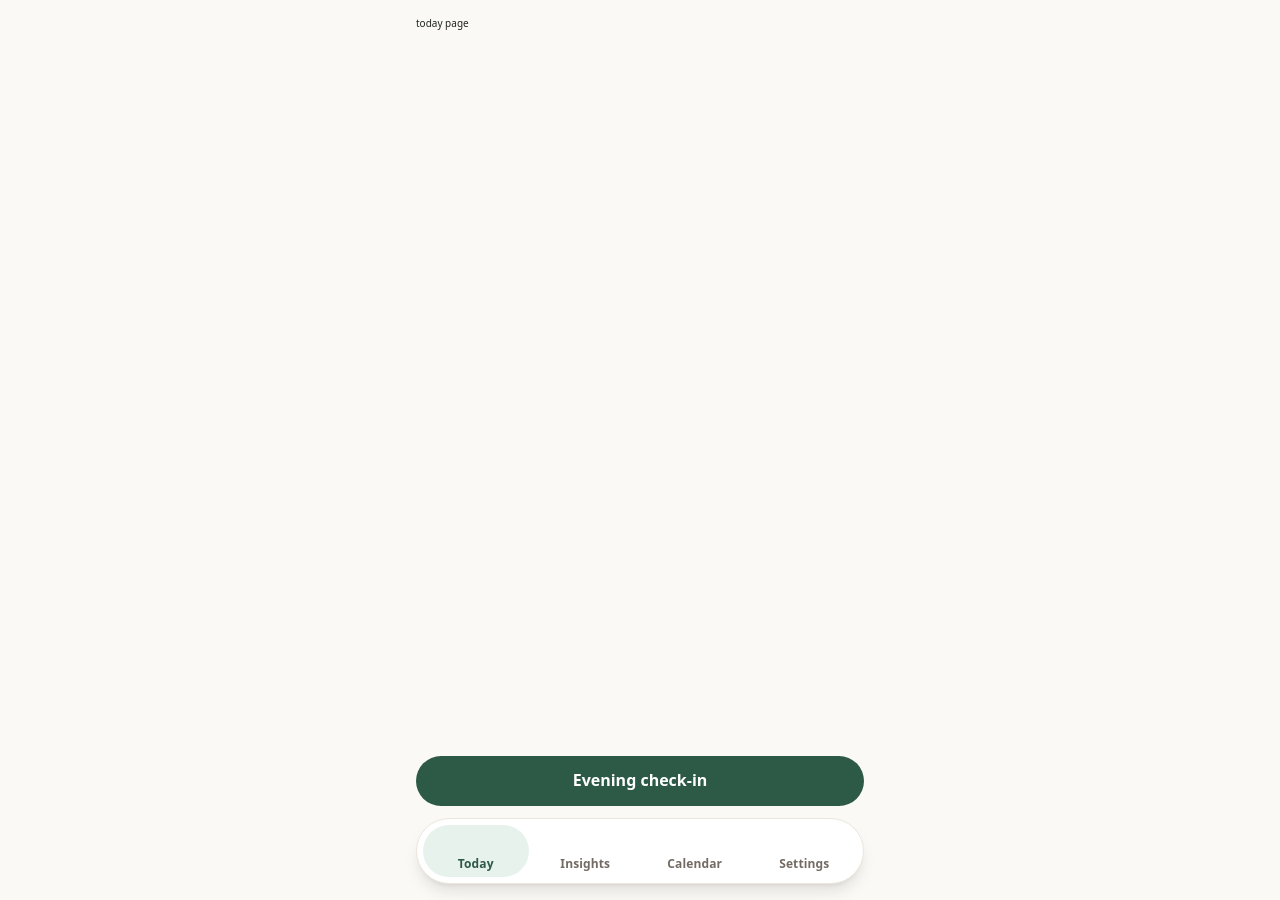
Scenario: Rapid check-in › opens the sheet from Today
What coordinates should you click on to do the following:
click the button "Evening check-in"
I would click on:
 (640, 781)
Its box is [416,756,864,806].
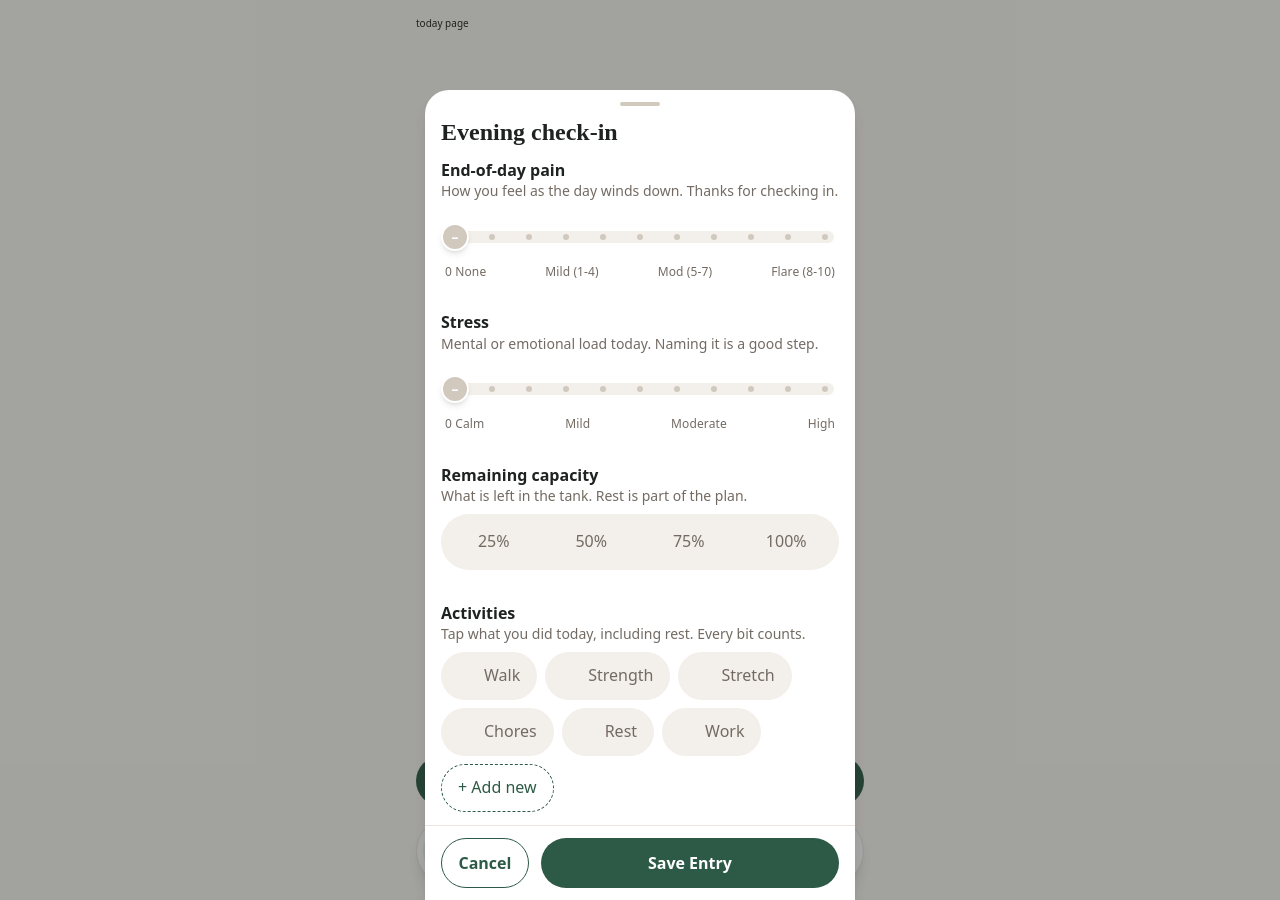
expect the dialog is shown: met, box [425,90,855,899]
